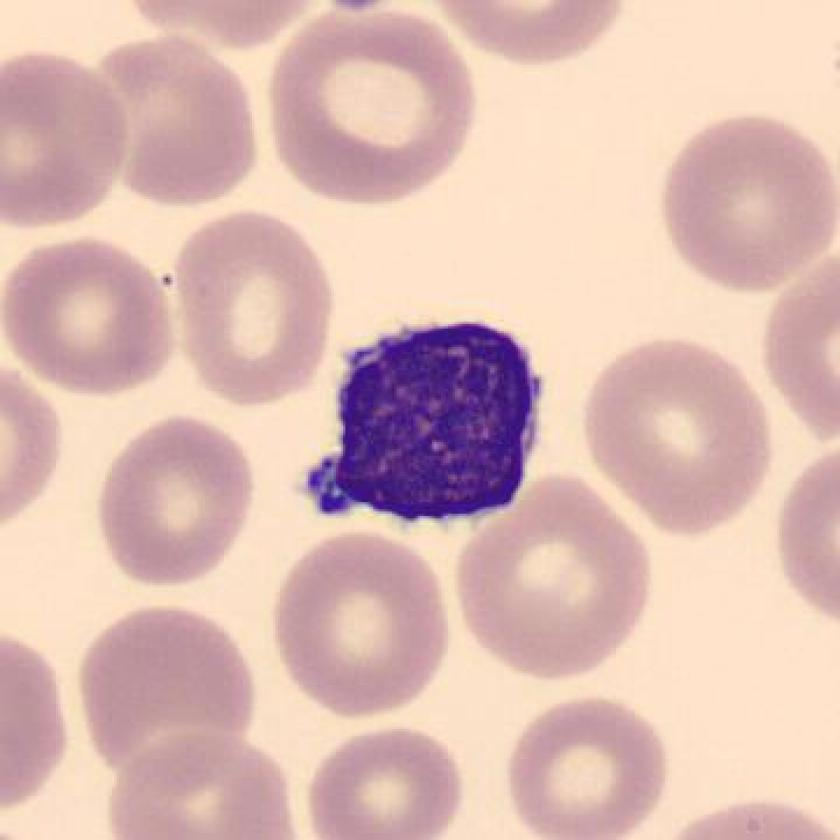lymphocyte: (288, 309, 566, 549)
